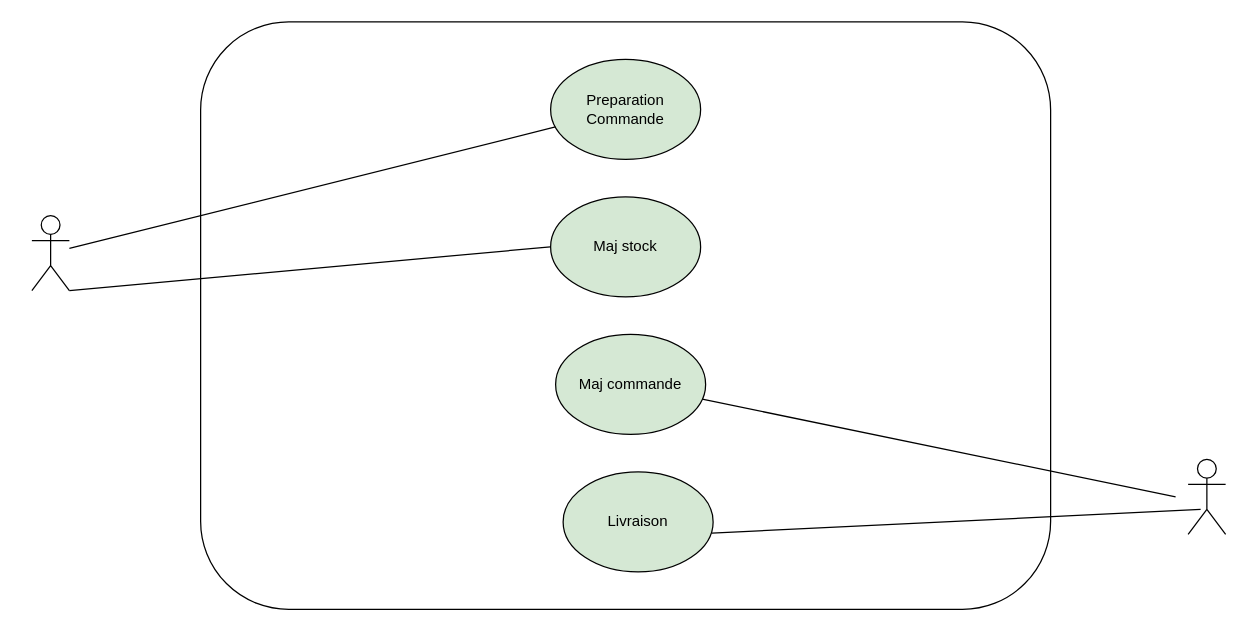
Some shapes in this 1251 by 631 pixel diagram are drawn without their labels. The centre of each missing label's shape, as x and y in pixels:
"Cuisinier" goes at point (50, 252).
"Livreur" goes at point (1206, 496).
